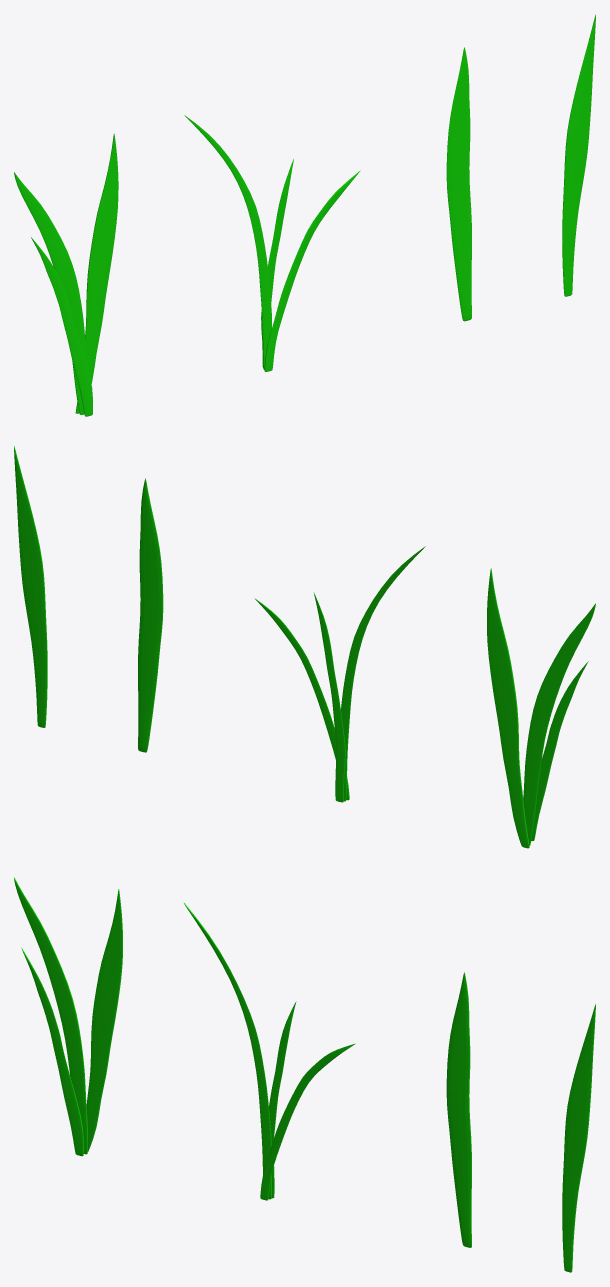
The model's file is grass_bugshroom.fbx.
The picture shows the model from 3 angles, top to bottom: view 1: azimuth 30°, elevation 25°; view 2: azimuth 150°, elevation 25°; view 3: azimuth 330°, elevation 25°; orthographic projection.
Parts seen in each view (by area): view 1: grass_4, grass_1, grass_3, grass_2; view 2: grass_4, grass_1, grass_3, grass_2; view 3: grass_4, grass_1, grass_3, grass_2.
Part boxes in pixels (bbox=[...]): grass_4: bbox=[14, 133, 118, 416]; grass_1: bbox=[446, 47, 471, 321]; grass_3: bbox=[184, 115, 360, 371]; grass_2: bbox=[562, 14, 595, 296]; grass_4: bbox=[487, 568, 595, 848]; grass_1: bbox=[138, 478, 163, 752]; grass_3: bbox=[254, 546, 425, 802]; grass_2: bbox=[14, 446, 47, 727]; grass_4: bbox=[14, 877, 122, 1156]; grass_1: bbox=[446, 972, 471, 1247]; grass_3: bbox=[184, 903, 355, 1200]; grass_2: bbox=[562, 1004, 595, 1272].
Bounding box in the file's own units: 2196 × 994 × 51.53.
